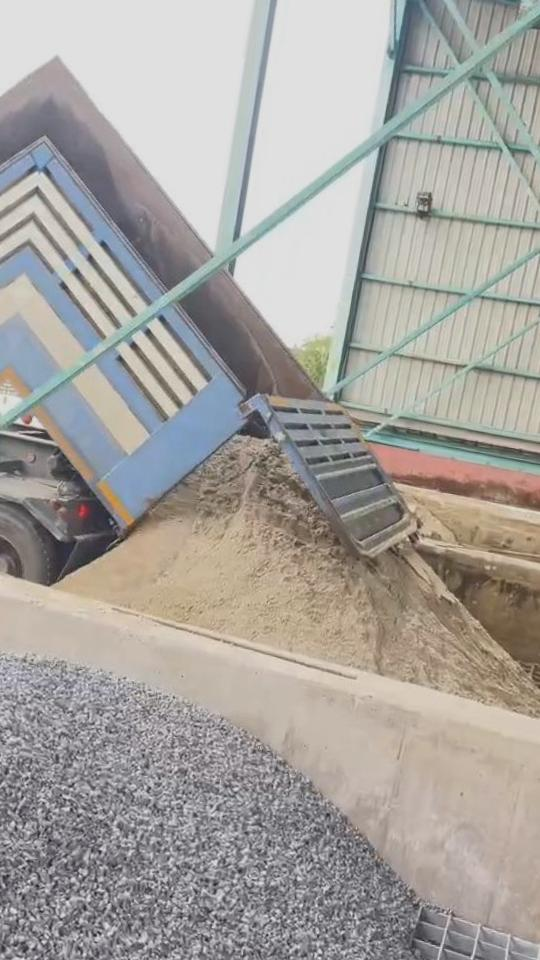gravel: (0, 654, 429, 960)
sand: (62, 437, 540, 717), (402, 489, 459, 542)
